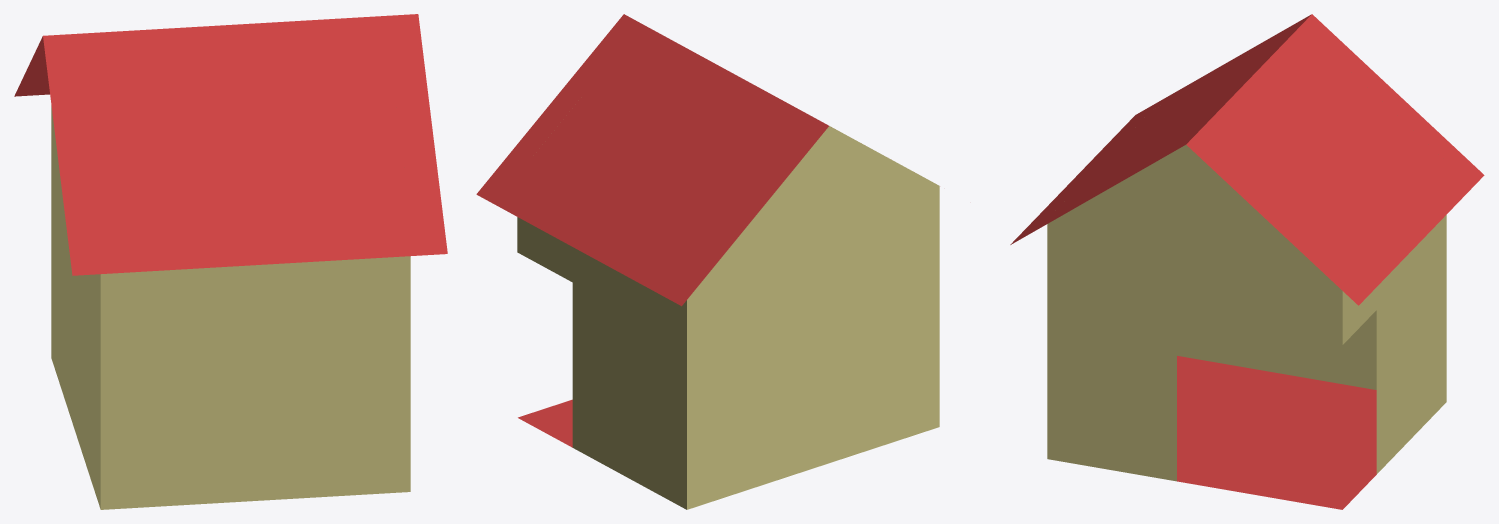
The picture shows the model from 3 angles, left to right: view 1: azimuth 30°, elevation 25°; view 2: azimuth 150°, elevation 25°; view 3: azimuth 270°, elevation 25°; orthographic projection. The views are drawn at different scales.
Size of the model in its own units: 15.48 by 16.3 by 13.31.
